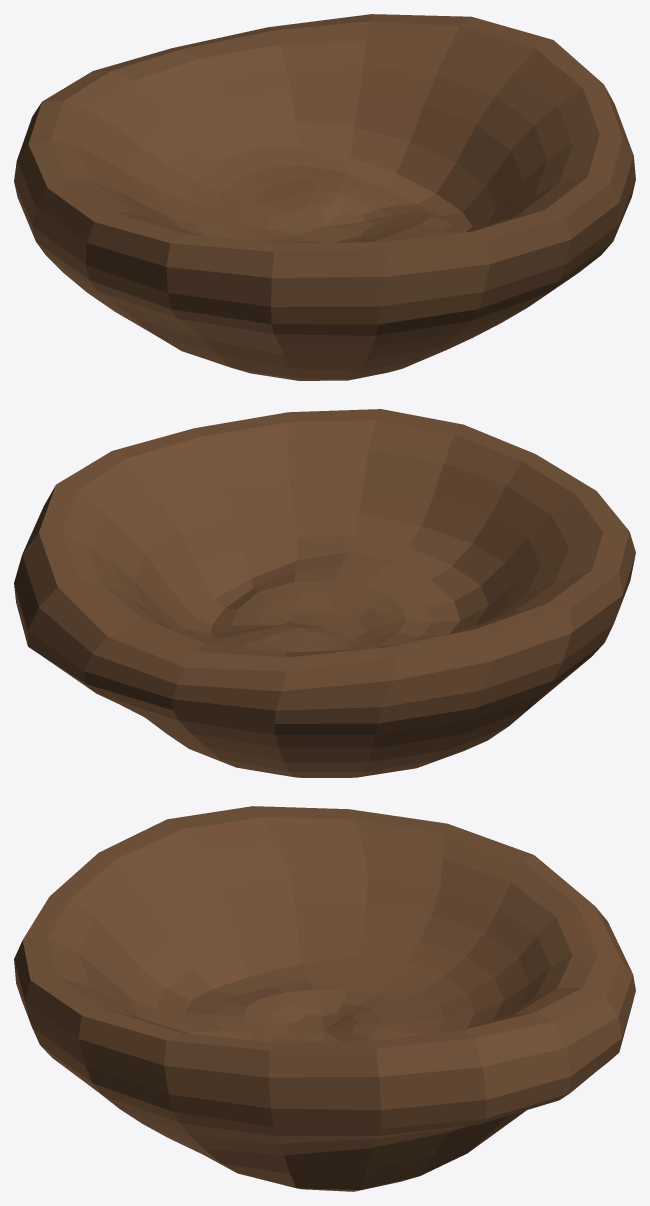
The model's file is Bowl.fbx.
The picture shows the model from 3 angles, top to bottom: view 1: azimuth 30°, elevation 25°; view 2: azimuth 150°, elevation 25°; view 3: azimuth 270°, elevation 25°; orthographic projection. The views are drawn at different scales.
Visible parts, largest first — view 1: Cylinder; view 2: Cylinder; view 3: Cylinder.
Boxes of the visible parts, box(x1,y1,x2,y2) form: Cylinder: box(14, 14, 635, 380); Cylinder: box(14, 409, 635, 777); Cylinder: box(14, 806, 635, 1191).
Size of the model in its own units: 14.77 by 5.84 by 14.87.
